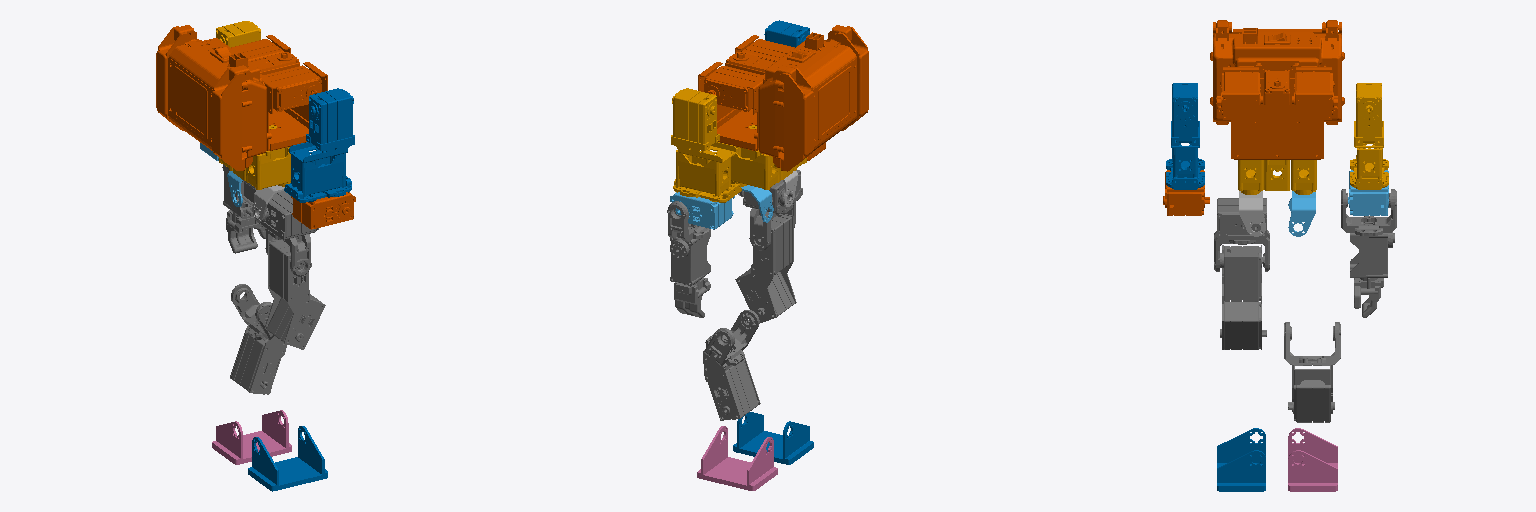
--- What the picture shows (computed from the rendered views, not written in the file) ---
Views: 3 orthographic renders of the robot side by side, from view 1: azimuth 30°, elevation 25°; view 2: azimuth 150°, elevation 25°; view 3: azimuth 270°, elevation 25°.
Model khr22 with 23 links and 22 joints (22 revolute), rooted at BODY, posed all joints at 0.
Links seen in each view (by area): view 1: TORSO_LINK0, RARM_LINK1, RLEG_LINK2, LLEG_LINK3, RLEG_LINK5, LLEG_LINK5, RLEG_LINK1, LARM_LINK3, BODY, RARM_LINK2, LARM_LINK1; view 2: TORSO_LINK0, LARM_LINK1, LLEG_LINK3, RLEG_LINK2, LARM_LINK3, LLEG_LINK5, RLEG_LINK5, BODY, RLEG_LINK1, LARM_LINK2, RARM_LINK1, LLEG_LINK0; view 3: TORSO_LINK0, RLEG_LINK2, LARM_LINK3, LLEG_LINK3, LARM_LINK1, RARM_LINK1, LLEG_LINK5, RLEG_LINK5, BODY, RLEG_LINK1, RARM_LINK2, LARM_LINK2 (+2 smaller).
Link boxes in pixels (<box>): TORSO_LINK0: <box>156,25,327,170</box>; RARM_LINK1: <box>284,88,354,202</box>; RLEG_LINK2: <box>264,240,325,349</box>; LLEG_LINK3: <box>230,284,286,394</box>; RLEG_LINK5: <box>248,426,327,491</box>; LLEG_LINK5: <box>212,410,291,464</box>; RLEG_LINK1: <box>254,191,318,276</box>; LARM_LINK3: <box>222,164,265,253</box>; BODY: <box>219,125,290,189</box>; RARM_LINK2: <box>291,192,355,229</box>; LARM_LINK1: <box>216,21,260,47</box>; TORSO_LINK0: <box>698,25,868,171</box>; LARM_LINK1: <box>671,88,741,202</box>; LLEG_LINK3: <box>703,310,760,420</box>; RLEG_LINK2: <box>735,214,796,322</box>; LARM_LINK3: <box>667,201,710,317</box>; LLEG_LINK5: <box>697,426,777,490</box>; RLEG_LINK5: <box>733,412,813,464</box>; BODY: <box>731,125,806,189</box>; RLEG_LINK1: <box>740,170,802,250</box>; LARM_LINK2: <box>670,192,734,229</box>; RARM_LINK1: <box>764,20,809,47</box>; LLEG_LINK0: <box>741,185,773,222</box>; TORSO_LINK0: <box>1210,20,1344,159</box>; RLEG_LINK2: <box>1220,245,1266,349</box>; LARM_LINK3: <box>1341,189,1396,317</box>; LLEG_LINK3: <box>1284,322,1340,422</box>; LARM_LINK1: <box>1350,83,1388,189</box>; RARM_LINK1: <box>1166,83,1204,189</box>; LLEG_LINK5: <box>1288,428,1337,491</box>; RLEG_LINK5: <box>1217,428,1265,491</box>; BODY: <box>1238,160,1316,194</box>; RLEG_LINK1: <box>1214,198,1269,271</box>; RARM_LINK2: <box>1163,170,1209,215</box>; LARM_LINK2: <box>1348,170,1388,215</box>.
Bounding box of the posed robot: 0.1103 × 0.1897 × 0.3809 m (x, y, z).
Meshes: 23 distinct files referenced, 14 mesh visuals loaded (14 Collada DAE); not drawn: 9 (reference not matched to a file when rendering).

URDF robot description (khr22):
<?xml version="1.0"?>
<robot name="khr22"
       xmlns:xi="http://www.w3.org/2001/XInclude">
  <link name="BODY">
    <visual>
      <origin xyz="0 0 0" rpy="0 -0 0"/>
      <!-- <origin xyz="0.0013 0 0.28866" rpy="0 -0 0"/> -->
      <geometry>
        <mesh filename="khr22/mesh/BODY_mesh_refined.dae" scale="1 1 1" />
      </geometry>
    </visual>
    <collision>
      <origin xyz="0 0 0" rpy="0 -0 0"/>
      <!-- <origin xyz="0.0013 0 0.28866" rpy="0 -0 0"/> -->
      <geometry>
        <mesh filename="khr22/mesh/BODY_mesh_refined.dae" scale="1 1 1" />
      </geometry>
    </collision>
    <inertial>
      <mass value="0.12849" />
      <origin xyz="-0.0115 3.53916e-18 -0.02" rpy="0 -0 0"/>
      <inertia ixx="4.39672e-05" ixy="-5.24819e-23" ixz="-6.69555e-24" iyy="9.84623e-05" iyz="-1.72206e-20" izz="9.60387e-05"/>
    </inertial>
  </link>
  <link name="LLEG_LINK0">
    <visual>
      <origin xyz="0 -0.022 0.04" rpy="0 -0 0"/>
      <geometry>
        <mesh filename="khr22/mesh/LLEG_LINK0_mesh_refined.dae" scale="1 1 1" />
      </geometry>
    </visual>
    <collision>
      <origin xyz="0 -0.022 0.04" rpy="0 -0 0"/>
      <geometry>
        <mesh filename="khr22/mesh/LLEG_LINK0_mesh_refined.dae" scale="1 1 1" />
      </geometry>
    </collision>
    <inertial>
      <mass value="0.003322" />
      <origin xyz="-0.001629 -0.001057 -0.009271" rpy="0 -0 0"/>
      <inertia ixx="1.0684e-05" ixy="2.25136e-07" ixz="-7.55589e-09" iyy="1.17667e-05" iyz="-4.21048e-08" izz="4.59644e-06"/>
    </inertial>
  </link>
  <link name="LLEG_LINK1">
    <visual>
      <origin xyz="0.018517 0.017 -0.06265" rpy="0 -0 0"/>
      <geometry>
        <mesh filename="khr22/mesh/LLEG_LINK1_mesh_refined.dae" scale="1 1 1" />
      </geometry>
    </visual>
    <collision>
      <origin xyz="0.018517 0.017 -0.06265" rpy="0 -0 0"/>
      <geometry>
        <mesh filename="khr22/mesh/LLEG_LINK1_mesh_refined.dae" scale="1 1 1" />
      </geometry>
    </collision>
    <inertial>
      <mass value="0.0699" />
      <origin xyz="-0.021734 0.011506 -0.014091" rpy="0 -0 0"/>
      <inertia ixx="1.6919e-05" ixy="-8.67462e-08" ixz="-1.21724e-08" iyy="1.58948e-05" iyz="-5.7174e-07" izz="9.6286e-06"/>
      <!-- <mass value="0.059469" /> -->
      <!-- <origin xyz="-0.02 0.0115 -0.006481" rpy="0 -0 0"/> -->
      <!-- <inertia ixx="6.45473e-05" ixy="-4.27652e-10" ixz="4.33505e-10" iyy="7.31302e-05" iyz="2.22978e-08" izz="4.57654e-05"/> -->
    </inertial>
  </link>
  <link name="LLEG_LINK2">
    <visual>
      <origin xyz="-0.0192 -0.00825 -0.0385" rpy="0 -0 0"/>
      <geometry>
        <mesh filename="khr22/mesh/LLEG_LINK2_mesh_refined.dae" scale="1 1 1" />
      </geometry>
    </visual>
    <collision>
      <origin xyz="-0.0192 -0.00825 -0.0385" rpy="0 -0 0"/>
      <geometry>
        <mesh filename="khr22/mesh/LLEG_LINK2_mesh_refined.dae" scale="1 1 1" />
      </geometry>
    </collision>
    <inertial>
      <mass value="0.1031" />
      <origin xyz="0.002871 0.018978 -0.033258" rpy="0 -0 0"/>
      <inertia ixx="5.51675e-05" ixy="-4.33138e-07" ixz="1.60787e-07" iyy="5.51001e-05" iyz="2.79276e-08" izz="1.42107e-05"/>
      <!-- <mass value="0.08566" /> -->
      <!-- <origin xyz="0.002875 0.02 -0.03327" rpy="0 -0 0"/> -->
      <!-- <inertia ixx="6.70633e-05" ixy="2.76374e-22" ixz="-1.9933e-23" iyy="0.000102" iyz="2.47851e-20" izz="6.47926e-05"/> -->
    </inertial>
  </link>
  <link name="LLEG_LINK3">
    <visual>
      <origin xyz="0 0 -0.065" rpy="0 -0 0"/>
      <geometry>
        <mesh filename="khr22/mesh/LLEG_LINK3_mesh_refined.dae" scale="1 1 1" />
      </geometry>
    </visual>
    <collision>
      <origin xyz="0 0 -0.065" rpy="0 -0 0"/>
      <geometry>
        <mesh filename="khr22/mesh/LLEG_LINK3_mesh_refined.dae" scale="1 1 1" />
      </geometry>
    </collision>
    <inertial>
      <mass value="0.0694" />
      <origin xyz="0.003613 0.016674 -0.031461" rpy="0 -0 0"/>
      <inertia ixx="3.675e-05" ixy="-1.69837e-07" ixz="-8.70062e-07" iyy="3.37577e-05" iyz="-1.30046e-07" izz="1.29244e-05"/>
      <!-- <mass value="0.059469" /> -->
      <!-- <origin xyz="0.005048 0.02 -0.042868" rpy="0 -0 0"/> -->
      <!-- <inertia ixx="0.000211" ixy="-4.27652e-10" ixz="-4.35972e-07" iyy="0.000219" iyz="2.22978e-08" izz="4.55794e-05"/> -->
    </inertial>
  </link>
  <link name="LLEG_LINK4">
    <visual>
      <origin xyz="0 0 -0.065" rpy="0 -0 0"/>
      <geometry>
        <mesh filename="khr22/mesh/LLEG_LINK4_mesh_refined.dae" scale="1 1 1" />
      </geometry>
    </visual>
    <collision>
      <origin xyz="0 0 -0.065" rpy="0 -0 0"/>
      <geometry>
        <mesh filename="khr22/mesh/LLEG_LINK4_mesh_refined.dae" scale="1 1 1" />
      </geometry>
    </collision>
    <inertial>
      <mass value="0.0691" />
      <origin xyz="-0.000386 0.016666 -0.024369" rpy="0 -0 0"/>
      <inertia ixx="1.89725e-05" ixy="-5.30464e-08" ixz="-3.88994e-07" iyy="1.73695e-05" iyz="-1.9347e-08" izz="1.22922e-05"/>
      <!-- <mass value="0.059469" /> -->
      <!-- <origin xyz="-1.0842e-18 0.02 -0.032159" rpy="0 -0 0"/> -->
      <!-- <inertia ixx="0.000349" ixy="-4.27652e-10" ixz="4.33505e-10" iyy="0.000358" iyz="2.22978e-08" izz="4.5842e-05"/> -->
    </inertial>
  </link>
  <link name="LLEG_LINK5">
    <visual>
      <origin xyz="0.0 0.0 0.0" rpy="0 -0 0"/>
      <!-- <origin xyz="0.019683 0.00825 -0.0385" rpy="0 -0 0"/> -->
      <geometry>
        <mesh filename="khr22/mesh/LLEG_LINK5_mesh_sole.dae" scale="1 1 1" />
      </geometry>
    </visual>
    <collision>
      <origin xyz="0.0 0.0 0.0" rpy="0 -0 0"/>
      <!-- <origin xyz="0.019683 0.00825 -0.0385" rpy="0 -0 0"/> -->
      <geometry>
        <mesh filename="khr22/mesh/LLEG_LINK5_mesh_sole.dae" scale="1 1 1" />
      </geometry>
    </collision>
    <inertial>
      <mass value="0.0419" />
      <origin xyz="-0.020862 0.020902 -0.013459" rpy="0 -0 0"/>
      <inertia ixx="1.31439e-05" ixy="-3.43305e-09" ixz="-2.13264e-07" iyy="2.75629e-05" iyz="3.99808e-07" izz="3.78492e-05"/>
      <!-- <mass value="0.103233" /> -->
      <!-- <origin xyz="3.46945e-18 0.01093 0.00521" rpy="0 -0 0"/> -->
      <!-- <inertia ixx="0.000993" ixy="4.72528e-06" ixz="-1.08944e-06" iyy="0.000411" iyz="1.03972e-06" izz="0.000602"/> -->
    </inertial>
  </link>
  <link name="RLEG_LINK0">
    <visual>
      <origin xyz="0 0.022 0.04" rpy="0 -0 0"/>
      <geometry>
        <mesh filename="khr22/mesh/RLEG_LINK0_mesh_refined.dae" scale="1 1 1" />
      </geometry>
    </visual>
    <collision>
      <origin xyz="0 0.022 0.04" rpy="0 -0 0"/>
      <geometry>
        <mesh filename="khr22/mesh/RLEG_LINK0_mesh_refined.dae" scale="1 1 1" />
      </geometry>
    </collision>
    <inertial>
      <mass value="0.003322" />
      <origin xyz="-0.001629 0.001057 -0.009271" rpy="0 -0 0"/>
      <inertia ixx="1.0684e-05" ixy="2.25136e-07" ixz="-8.02116e-09" iyy="1.17667e-05" iyz="4.20715e-08" izz="4.59644e-06"/>
    </inertial>
  </link>
  <link name="RLEG_LINK1">
    <visual>
      <origin xyz="0.018517 -0.017 -0.06265" rpy="0 -0 0"/>
      <geometry>
        <mesh filename="khr22/mesh/RLEG_LINK1_mesh_refined.dae" scale="1 1 1" />
      </geometry>
    </visual>
    <collision>
      <origin xyz="0.018517 -0.017 -0.06265" rpy="0 -0 0"/>
      <geometry>
        <mesh filename="khr22/mesh/RLEG_LINK1_mesh_refined.dae" scale="1 1 1" />
      </geometry>
    </collision>
    <inertial>
      <mass value="0.0699" />
      <origin xyz="-0.021734 -0.011506 -0.014091" rpy="0 -0 0"/>
      <inertia ixx="1.67706e-05" ixy="3.09063e-07" ixz="-9.06368e-08" iyy="1.59351e-05" iyz="-1.85881e-07" izz="8.90141e-06"/>
      <!-- <mass value="0.059469" /> -->
      <!-- <origin xyz="-0.02 -0.0115 -0.006481" rpy="0 -0 0"/> -->
      <!-- <inertia ixx="6.45473e-05" ixy="-4.27652e-10" ixz="4.33505e-10" iyy="7.31302e-05" iyz="2.22978e-08" izz="4.57654e-05"/> -->
    </inertial>
  </link>
  <link name="RLEG_LINK2">
    <visual>
      <origin xyz="-0.0192 0.00825 -0.0385" rpy="0 -0 0"/>
      <geometry>
        <mesh filename="khr22/mesh/RLEG_LINK2_mesh_refined.dae" scale="1 1 1" />
      </geometry>
    </visual>
    <collision>
      <origin xyz="-0.0192 0.00825 -0.0385" rpy="0 -0 0"/>
      <geometry>
        <mesh filename="khr22/mesh/RLEG_LINK2_mesh_refined.dae" scale="1 1 1" />
      </geometry>
    </collision>
    <inertial>
      <mass value="0.1031" />
      <origin xyz="0.002871 -0.018978 -0.033258" rpy="0 -0 0"/>
      <inertia ixx="5.53682e-05" ixy="1.79727e-07" ixz="1.50432e-07" iyy="5.49684e-05" iyz="-1.26323e-07" izz="1.5723e-05"/>
      <!-- <mass value="0.08566" /> -->
      <!-- <origin xyz="0.002875 -0.02 -0.03327" rpy="0 -0 0"/> -->
      <!-- <inertia ixx="6.70633e-05" ixy="2.76374e-22" ixz="-1.9933e-23" iyy="0.000102" iyz="2.47851e-20" izz="6.47926e-05"/> -->
    </inertial>
  </link>
  <link name="RLEG_LINK3">
    <visual>
      <origin xyz="0 0 -0.065" rpy="0 -0 0"/>
      <geometry>
        <mesh filename="khr22/mesh/RLEG_LINK3_mesh_refined.dae" scale="1 1 1" />
      </geometry>
    </visual>
    <collision>
      <origin xyz="0 0 -0.065" rpy="0 -0 0"/>
      <geometry>
        <mesh filename="khr22/mesh/RLEG_LINK3_mesh_refined.dae" scale="1 1 1" />
      </geometry>
    </collision>
    <inertial>
      <mass value="0.0694" />
      <origin xyz="0.003613 -0.016674 -0.031461" rpy="0 -0 0"/>
      <inertia ixx="3.88163e-05" ixy="-4.03699e-09" ixz="-8.68336e-07" iyy="3.51562e-05" iyz="-8.44442e-08" izz="1.3848e-05"/>
      <!-- <mass value="0.059469" /> -->
      <!-- <origin xyz="0.005048 -0.02 -0.042868" rpy="0 -0 0"/> -->
      <!-- <inertia ixx="0.000211" ixy="-4.27652e-10" ixz="-4.35972e-07" iyy="0.000219" iyz="2.22978e-08" izz="4.55794e-05"/> -->
    </inertial>
  </link>
  <link name="RLEG_LINK4">
    <visual>
      <origin xyz="0 -0.003 -0.065" rpy="0 -0 0"/>
      <geometry>
        <mesh filename="khr22/mesh/RLEG_LINK4_mesh_refined.dae" scale="1 1 1" />
      </geometry>
    </visual>
    <collision>
      <origin xyz="0 -0.003 -0.065" rpy="0 -0 0"/>
      <geometry>
        <mesh filename="khr22/mesh/RLEG_LINK4_mesh_refined.dae" scale="1 1 1" />
      </geometry>
    </collision>
    <inertial>
      <mass value="0.0691" />
      <origin xyz="-0.000386 -0.016666 -0.024369" rpy="0 -0 0"/>
      <inertia ixx="2.07911e-05" ixy="-1.95431e-07" ixz="9.83503e-08" iyy="1.81828e-05" iyz="8.03039e-08" izz="1.18297e-05"/>
      <!-- <mass value="0.059469" /> -->
      <!-- <origin xyz="-4.33681e-19 -0.02 -0.032159" rpy="0 -0 0"/> -->
      <!-- <inertia ixx="0.000349" ixy="-4.27652e-10" ixz="4.33505e-10" iyy="0.000358" iyz="2.22978e-08" izz="4.5842e-05"/> -->
    </inertial>
  </link>
  <link name="RLEG_LINK5">
    <visual>
      <origin xyz="0.0 0.0 0.0" rpy="0 -0 0"/>
      <!-- <origin xyz="0.019683 -0.00825 -0.0385" rpy="0 -0 0"/> -->
      <geometry>
        <mesh filename="khr22/mesh/RLEG_LINK5_mesh_sole.dae" scale="1 1 1" />
      </geometry>
    </visual>
    <collision>
      <origin xyz="0.0 0.0 0.0" rpy="0 -0 0"/>
      <!-- <origin xyz="0.019683 -0.00825 -0.0385" rpy="0 -0 0"/> -->
      <geometry>
        <mesh filename="khr22/mesh/RLEG_LINK5_mesh_sole.dae" scale="1 1 1" />
      </geometry>
    </collision>
    <inertial>
      <mass value="0.0419" />
      <origin xyz="-0.020862 -0.020902 -0.013459" rpy="0 -0 0"/>
      <inertia ixx="1.24417e-05" ixy="-6.00499e-07" ixz="1.04282e-07" iyy="3.00021e-05" iyz="-5.79267e-07" izz="3.92743e-05"/>
      <!-- <mass value="0.103233" /> -->
      <!-- <origin xyz="-3.46945e-18 -0.01093 0.00521" rpy="0 -0 0"/> -->
      <!-- <inertia ixx="0.000993" ixy="4.72527e-06" ixz="1.01251e-06" iyy="0.000411" iyz="-1.52142e-07" izz="0.000602"/> -->
    </inertial>
  </link>
  <link name="TORSO_LINK0">
    <visual>
      <origin xyz="0 0 0" rpy="0 -0 0"/>
      <geometry>
        <mesh filename="khr22/mesh/TORSO_LINK0_mesh_refined.dae" scale="1 1 1" />
      </geometry>
    </visual>
    <collision>
      <origin xyz="0 0 0" rpy="0 -0 0"/>
      <geometry>
        <mesh filename="khr22/mesh/TORSO_LINK0_mesh_refined.dae" scale="1 1 1" />
      </geometry>
    </collision>
    <inertial>
      <mass value="0.35983" />
      <origin xyz="-0.029892 1.89568e-17 0.029281" rpy="0 -0 0"/>
      <inertia ixx="0.002007" ixy="3.87489e-05" ixz="-9.86728e-07" iyy="0.001856" iyz="-7.26528e-06" izz="0.001515"/>
    </inertial>
  </link>
  <link name="HEAD_LINK0">
    <visual>
      <origin xyz="0 0 0.0644" rpy="0 -0 0"/>
      <geometry>
        <mesh filename="khr22/mesh/HEAD_LINK0_mesh_refined.dae" scale="1 1 1" />
      </geometry>
    </visual>
    <collision>
      <origin xyz="0 0 0.0644" rpy="0 -0 0"/>
      <geometry>
        <mesh filename="khr22/mesh/HEAD_LINK0_mesh_refined.dae" scale="1 1 1" />
      </geometry>
    </collision>
    <inertial>
      <mass value="0.0149" />
      <origin xyz="0.002048 0 0.020747" rpy="0 -0 0"/>
      <inertia ixx="1.89498e-06" ixy="1.75751e-08" ixz="-5.79694e-08" iyy="3.27018e-06" iyz="1.69379e-08" izz="2.44034e-06"/>
      <!-- <mass value="0.014361" /> -->
      <!-- <origin xyz="0.003285 -2.30629e-06 0.020555" rpy="0 -0 0"/> -->
      <!-- <inertia ixx="4.95528e-05" ixy="-1.38168e-11" ixz="-7.3432e-08" iyy="4.45537e-05" iyz="-2.01845e-09" izz="1.47912e-05"/> -->
    </inertial>
  </link>
  <link name="LARM_LINK0">
    <visual>
      <origin xyz="0.0115 0.049 0.0474" rpy="0 -0 0"/>
      <geometry>
        <mesh filename="khr22/mesh/LARM_LINK0_mesh_refined.dae" scale="1 1 1" />
      </geometry>
    </visual>
    <collision>
      <origin xyz="0.0115 0.049 0.0474" rpy="0 -0 0"/>
      <geometry>
        <mesh filename="khr22/mesh/LARM_LINK0_mesh_refined.dae" scale="1 1 1" />
      </geometry>
    </collision>
    <inertial>
      <mass value="0.0153" />
      <origin xyz="0 0.014576 0" rpy="0 -0 0"/>
      <inertia ixx="1.64238e-06" ixy="-4.39899e-09" ixz="2.13134e-08" iyy="2.26922e-06" iyz="-3.47822e-09" izz="2.75336e-06"/>
      <!-- <mass value="0.016639" /> -->
      <!-- <origin xyz="-3.46945e-18 0.009163 0" rpy="0 -0 0"/> -->
      <!-- <inertia ixx="3.04092e-05" ixy="-4.27652e-10" ixz="4.33505e-10" iyy="2.27027e-05" iyz="2.22978e-08" izz="2.23763e-05"/> -->
    </inertial>
  </link>
  <link name="LARM_LINK1">
    <visual>
      <origin xyz="0.01975 0.0255 0" rpy="0 -0 0"/>
      <geometry>
        <mesh filename="khr22/mesh/LARM_LINK1_mesh_refined.dae" scale="1 1 1" />
      </geometry>
    </visual>
    <collision>
      <origin xyz="0.01975 0.0255 0" rpy="0 -0 0"/>
      <geometry>
        <mesh filename="khr22/mesh/LARM_LINK1_mesh_refined.dae" scale="1 1 1" />
      </geometry>
    </collision>
    <inertial>
      <mass value="0.08566" />
      <origin xyz="-0.02425 0 -0.03275" rpy="0 -0 0"/>
      <inertia ixx="4.0299e-05" ixy="-8.32865e-25" ixz="-3.89972e-23" iyy="6.60435e-05" iyz="9.2227e-21" izz="7.43506e-05"/>
    </inertial>
  </link>
  <link name="LARM_LINK2">
    <visual>
      <origin xyz="0.04025 0.0255 0.075" rpy="0 -0 0"/>
      <!-- <origin xyz="-0.016 0 -0.075" rpy="0 -0 0"/> -->
      <geometry>
        <mesh filename="khr22/mesh/LARM_LINK2_mesh_refined.dae" scale="1 1 1" />
      </geometry>
    </visual>
    <collision>
      <origin xyz="0.04025 0.0255 0.075" rpy="0 -0 0"/>
      <!-- <origin xyz="-0.016 0 -0.075" rpy="0 -0 0"/> -->
      <geometry>
        <mesh filename="khr22/mesh/LARM_LINK2_mesh_refined.dae" scale="1 1 1" />
      </geometry>
    </collision>
    <inertial>
      <mass value="0.04283" />
      <origin xyz="0.0115 0 1.04083e-17" rpy="0 -0 0"/>
      <inertia ixx="2.11725e-05" ixy="4.25575e-26" ixz="-1.88949e-23" iyy="3.40543e-05" iyz="1.04267e-20" izz="3.71848e-05"/>
    </inertial>
  </link>
  <link name="LARM_LINK3">
    <visual>
      <origin xyz="-0.0153 -0.0197 -0.0875" rpy="0 -0 0"/>
      <geometry>
        <mesh filename="khr22/mesh/LARM_LINK3_mesh_refined.dae" scale="1 1 1" />
      </geometry>
    </visual>
    <collision>
      <origin xyz="-0.0153 -0.0197 -0.0875" rpy="0 -0 0"/>
      <geometry>
        <mesh filename="khr22/mesh/LARM_LINK3_mesh_refined.dae" scale="1 1 1" />
      </geometry>
    </collision>
    <inertial>
      <mass value="0.0315" />
      <origin xyz="0.000525 0.019115 -0.039067" rpy="0 -0 0"/>
      <inertia ixx="2.0635e-05" ixy="6.63534e-08" ixz="1.858e-07" iyy="1.94974e-05" iyz="-1.80473e-07" izz="3.50615e-06"/>
      <!-- <mass value="0.07626" /> -->
      <!-- <origin xyz="0.020363 0.074486 -0.077361" rpy="0 -0 0"/> -->
      <!-- <inertia ixx="0.000144" ixy="4.76604e-08" ixz="1.40919e-07" iyy="0.000121" iyz="-4.90624e-08" izz="9.78235e-05"/> -->
    </inertial>
  </link>
  <link name="RARM_LINK0">
    <visual>
      <origin xyz="0.0115 -0.049 0.0474" rpy="0 -0 0"/>
      <geometry>
        <mesh filename="khr22/mesh/RARM_LINK0_mesh_refined.dae" scale="1 1 1" />
      </geometry>
    </visual>
    <collision>
      <origin xyz="0.0115 -0.049 0.0474" rpy="0 -0 0"/>
      <geometry>
        <mesh filename="khr22/mesh/RARM_LINK0_mesh_refined.dae" scale="1 1 1" />
      </geometry>
    </collision>
    <inertial>
      <mass value="0.0153" />
      <origin xyz="0 -0.014576 0" rpy="0 -0 0"/>
      <inertia ixx="1.6763e-06" ixy="-1.67661e-08" ixz="-9.95332e-09" iyy="2.26307e-06" iyz="1.99264e-09" izz="2.74554e-06"/>
      <!-- <mass value="0.016639" /> -->
      <!-- <origin xyz="0 -0.009163 0" rpy="0 -0 0"/> -->
      <!-- <inertia ixx="3.04092e-05" ixy="-4.27652e-10" ixz="4.33505e-10" iyy="2.27027e-05" iyz="2.22978e-08" izz="2.23763e-05"/> -->
    </inertial>
  </link>
  <link name="RARM_LINK1">
    <visual>
      <origin xyz="0.01975 -0.0255 0" rpy="0 -0 0"/>
      <geometry>
        <mesh filename="khr22/mesh/RARM_LINK1_mesh_refined.dae" scale="1 1 1" />
      </geometry>
    </visual>
    <collision>
      <origin xyz="0.01975 -0.0255 0" rpy="0 -0 0"/>
      <geometry>
        <mesh filename="khr22/mesh/RARM_LINK1_mesh_refined.dae" scale="1 1 1" />
      </geometry>
    </collision>
    <inertial>
      <mass value="0.08566" />
      <origin xyz="-0.02425 0 -0.03275" rpy="0 -0 0"/>
      <inertia ixx="4.0299e-05" ixy="-8.32865e-25" ixz="-3.89972e-23" iyy="6.60435e-05" iyz="9.2227e-21" izz="7.43506e-05"/>
    </inertial>
  </link>
  <link name="RARM_LINK2">
    <visual>
      <origin xyz="0.04025 -0.0255 0.075" rpy="0 -0 0"/>
      <!-- <origin xyz="-0.016 0 -0.075" rpy="0 -0 0"/> -->
      <geometry>
        <mesh filename="khr22/mesh/RARM_LINK2_mesh_refined.dae" scale="1 1 1" />
      </geometry>
    </visual>
    <collision>
      <origin xyz="0.04025 -0.0255 0.075" rpy="0 -0 0"/>
      <!-- <origin xyz="-0.016 0 -0.075" rpy="0 -0 0"/> -->
      <geometry>
        <mesh filename="khr22/mesh/RARM_LINK2_mesh_refined.dae" scale="1 1 1" />
      </geometry>
    </collision>
    <inertial>
      <mass value="0.04283" />
      <origin xyz="0.0115 0 1.04083e-17" rpy="0 -0 0"/>
      <inertia ixx="2.11725e-05" ixy="4.25575e-26" ixz="-1.88949e-23" iyy="3.40543e-05" iyz="1.04267e-20" izz="3.71848e-05"/>
    </inertial>
  </link>
  <link name="RARM_LINK3">
    <visual>
      <origin xyz="-0.0153 0.0197 -0.0875" rpy="0 -0 0"/>
      <geometry>
        <mesh filename="khr22/mesh/RARM_LINK3_mesh_refined.dae" scale="1 1 1" />
      </geometry>
    </visual>
    <collision>
      <origin xyz="-0.0153 0.0197 -0.0875" rpy="0 -0 0"/>
      <geometry>
        <mesh filename="khr22/mesh/RARM_LINK3_mesh_refined.dae" scale="1 1 1" />
      </geometry>
    </collision>
    <inertial>
      <mass value="0.0315" />
      <origin xyz="0.000525 -0.019115 -0.039067" rpy="0 -0 0"/>
      <inertia ixx="2.01586e-05" ixy="-1.18985e-07" ixz="7.55844e-08" iyy="1.8365e-05" iyz="5.07189e-07" izz="4.02757e-06"/>
      <!-- <mass value="0.07626" /> -->
      <!-- <origin xyz="0.020363 -0.074486 -0.077361" rpy="0 -0 0"/> -->
      <!-- <inertia ixx="0.000144" ixy="4.76604e-08" ixz="1.7102e-07" iyy="0.000121" iyz="8.96584e-08" izz="9.78235e-05"/> -->
    </inertial>
  </link>
  <joint name="LLEG_JOINT0" type="revolute">
    <parent link="BODY"/>
    <child  link="LLEG_LINK0"/>
    <origin xyz="0 0.022 -0.04" rpy="0 -0 0 "/>
    <axis   xyz="0 0 1"/>
    <limit lower="-3.14159" upper="3.14159" effort="100" velocity="0.5" />
    <dynamics damping="0.2" friction="0" />
  </joint>
  <joint name="LLEG_JOINT1" type="revolute">
    <parent link="LLEG_LINK0"/>
    <child  link="LLEG_LINK1"/>
    <origin xyz="0.02 -0.005 -0.0235" rpy="0 -0 0 "/>
    <axis   xyz="1 0 0"/>
    <limit lower="-3.14159" upper="3.14159" effort="100" velocity="0.5" />
    <dynamics damping="0.2" friction="0" />
  </joint>
  <joint name="LLEG_JOINT2" type="revolute">
    <parent link="LLEG_LINK1"/>
    <child  link="LLEG_LINK2"/>
    <origin xyz="-0.021 -0.00825 -0.0385" rpy="0 -0 0 "/>
    <axis   xyz="0 1 0"/>
    <limit lower="-3.14159" upper="3.14159" effort="100" velocity="0.5" />
    <dynamics damping="0.2" friction="0" />
  </joint>
  <joint name="LLEG_JOINT3" type="revolute">
    <parent link="LLEG_LINK2"/>
    <child  link="LLEG_LINK3"/>
    <origin xyz="0 0 -0.065" rpy="0 -0 0 "/>
    <axis   xyz="0 1 0"/>
    <limit lower="-3.14159" upper="3.14159" effort="100" velocity="0.5" />
    <dynamics damping="0.2" friction="0" />
  </joint>
  <joint name="LLEG_JOINT4" type="revolute">
    <parent link="LLEG_LINK3"/>
    <child  link="LLEG_LINK4"/>
    <origin xyz="0 0 -0.065" rpy="0 -0 0 "/>
    <axis   xyz="0 1 0"/>
    <limit lower="-3.14159" upper="3.14159" effort="100" velocity="0.5" />
    <dynamics damping="0.2" friction="0" />
  </joint>
  <joint name="LLEG_JOINT5" type="revolute">
    <parent link="LLEG_LINK4"/>
    <child  link="LLEG_LINK5"/>
    <origin xyz="0.0197 0.00825 -0.0385" rpy="0 -0 0 "/>
    <axis   xyz="1 0 0"/>
    <limit lower="-3.14159" upper="3.14159" effort="100" velocity="0.5" />
    <dynamics damping="0.2" friction="0" />
  </joint>
  <joint name="RLEG_JOINT0" type="revolute">
    <parent link="BODY"/>
    <child  link="RLEG_LINK0"/>
    <origin xyz="0 -0.022 -0.04" rpy="0 -0 0 "/>
    <axis   xyz="0 0 1"/>
    <limit lower="-3.14159" upper="3.14159" effort="100" velocity="0.5" />
    <dynamics damping="0.2" friction="0" />
  </joint>
  <joint name="RLEG_JOINT1" type="revolute">
    <parent link="RLEG_LINK0"/>
    <child  link="RLEG_LINK1"/>
    <origin xyz="0.02 0.005 -0.0235" rpy="0 -0 0 "/>
    <axis   xyz="1 0 0"/>
    <limit lower="-3.14159" upper="3.14159" effort="100" velocity="0.5" />
    <dynamics damping="0.2" friction="0" />
  </joint>
  <joint name="RLEG_JOINT2" type="revolute">
    <parent link="RLEG_LINK1"/>
    <child  link="RLEG_LINK2"/>
    <origin xyz="-0.021 0.00825 -0.0385" rpy="0 -0 0 "/>
    <axis   xyz="0 1 0"/>
    <limit lower="-3.14159" upper="3.14159" effort="100" velocity="0.5" />
    <dynamics damping="0.2" friction="0" />
  </joint>
  <joint name="RLEG_JOINT3" type="revolute">
    <parent link="RLEG_LINK2"/>
    <child  link="RLEG_LINK3"/>
    <origin xyz="0 0 -0.065" rpy="0 -0 0 "/>
    <axis   xyz="0 1 0"/>
    <limit lower="-3.14159" upper="3.14159" effort="100" velocity="0.5" />
    <dynamics damping="0.2" friction="0" />
  </joint>
  <joint name="RLEG_JOINT4" type="revolute">
    <parent link="RLEG_LINK3"/>
    <child  link="RLEG_LINK4"/>
    <origin xyz="0 0 -0.065" rpy="0 -0 0 "/>
    <axis   xyz="0 1 0"/>
    <limit lower="-3.14159" upper="3.14159" effort="100" velocity="0.5" />
    <dynamics damping="0.2" friction="0" />
  </joint>
  <joint name="RLEG_JOINT5" type="revolute">
    <parent link="RLEG_LINK4"/>
    <child  link="RLEG_LINK5"/>
    <origin xyz="0.0197 -0.00825 -0.0385" rpy="0 -0 0 "/>
    <axis   xyz="1 0 0"/>
    <limit lower="-3.14159" upper="3.14159" effort="100" velocity="0.5" />
    <dynamics damping="0.2" friction="0" />
  </joint>
  <joint name="TORSO_JOINT0" type="revolute">
    <parent link="BODY"/>
    <child  link="TORSO_LINK0"/>
    <origin xyz="0 0 0" rpy="0 -0 0 "/>
    <axis   xyz="0 0 1"/>
    <limit lower="-3.14159" upper="3.14159" effort="100" velocity="0.5" />
    <dynamics damping="0.2" friction="0" />
  </joint>
  <joint name="HEAD_JOINT0" type="revolute">
    <parent link="TORSO_LINK0"/>
    <child  link="HEAD_LINK0"/>
    <origin xyz="0.0115 0 0.064" rpy="0 -0 0 "/>
    <axis   xyz="0 0 1"/>
    <limit lower="-3.14159" upper="3.14159" effort="100" velocity="0.5" />
    <dynamics damping="0.2" friction="0" />
  </joint>
  <joint name="LARM_JOINT0" type="revolute">
    <parent link="TORSO_LINK0"/>
    <child  link="LARM_LINK0"/>
    <origin xyz="0.0115 0.049 0.0474" rpy="0 -0 0 "/>
    <axis   xyz="0 1 0"/>
    <limit lower="-3.14159" upper="3.14159" effort="100" velocity="0.5" />
    <dynamics damping="0.2" friction="0" />
  </joint>
  <joint name="LARM_JOINT1" type="revolute">
    <parent link="LARM_LINK0"/>
    <child  link="LARM_LINK1"/>
    <origin xyz="0.01975 0.0255 0" rpy="0 -0 0 "/>
    <axis   xyz="1 0 0"/>
    <limit lower="-3.14159" upper="3.14159" effort="100" velocity="0.5" />
    <dynamics damping="0.2" friction="0" />
  </joint>
  <joint name="LARM_JOINT2" type="revolute">
    <parent link="LARM_LINK1"/>
    <child  link="LARM_LINK2"/>
    <origin xyz="-0.0205 0 -0.075" rpy="0 -0 0 "/>
    <!-- <origin xyz="-0.016 0 -0.075" rpy="0 -0 0 "/> -->
    <axis   xyz="0 0 1"/>
    <limit lower="-3.14159" upper="3.14159" effort="100" velocity="0.5" />
    <dynamics damping="0.2" friction="0" />
  </joint>
  <joint name="LARM_JOINT3" type="revolute">
    <parent link="LARM_LINK2"/>
    <child  link="LARM_LINK3"/>
    <origin xyz="0.005 -0.02 -0.0125" rpy="0 -0 0 "/>
    <!-- <origin xyz="0.005 -0.02 -0.0135" rpy="0 -0 0 "/> -->
    <axis   xyz="0 1 0"/>
    <limit lower="-3.14159" upper="3.14159" effort="100" velocity="0.5" />
    <dynamics damping="0.2" friction="0" />
  </joint>
  <joint name="RARM_JOINT0" type="revolute">
    <parent link="TORSO_LINK0"/>
    <child  link="RARM_LINK0"/>
    <origin xyz="0.0115 -0.049 0.0474" rpy="0 -0 0 "/>
    <axis   xyz="0 1 0"/>
    <limit lower="-3.14159" upper="3.14159" effort="100" velocity="0.5" />
    <dynamics damping="0.2" friction="0" />
  </joint>
  <joint name="RARM_JOINT1" type="revolute">
    <parent link="RARM_LINK0"/>
    <child  link="RARM_LINK1"/>
    <origin xyz="0.01975 -0.0255 0" rpy="0 -0 0 "/>
    <axis   xyz="1 0 0"/>
    <limit lower="-3.14159" upper="3.14159" effort="100" velocity="0.5" />
    <dynamics damping="0.2" friction="0" />
  </joint>
  <joint name="RARM_JOINT2" type="revolute">
    <parent link="RARM_LINK1"/>
    <child  link="RARM_LINK2"/>
    <origin xyz="-0.0205 0 -0.075" rpy="0 -0 0 "/>
    <!-- <origin xyz="-0.016 0 -0.075" rpy="0 -0 0 "/> -->
    <axis   xyz="0 0 1"/>
    <limit lower="-3.14159" upper="3.14159" effort="100" velocity="0.5" />
    <dynamics damping="0.2" friction="0" />
  </joint>
  <joint name="RARM_JOINT3" type="revolute">
    <parent link="RARM_LINK2"/>
    <child  link="RARM_LINK3"/>
    <origin xyz="0.005 0.02 -0.0125" rpy="0 -0 0 "/>
    <!-- <origin xyz="0.005 0.02 -0.0135" rpy="0 -0 0 "/> -->
    <axis   xyz="0 1 0"/>
    <limit lower="-3.14159" upper="3.14159" effort="100" velocity="0.5" />
    <dynamics damping="0.2" friction="0" />
  </joint>
</robot>
